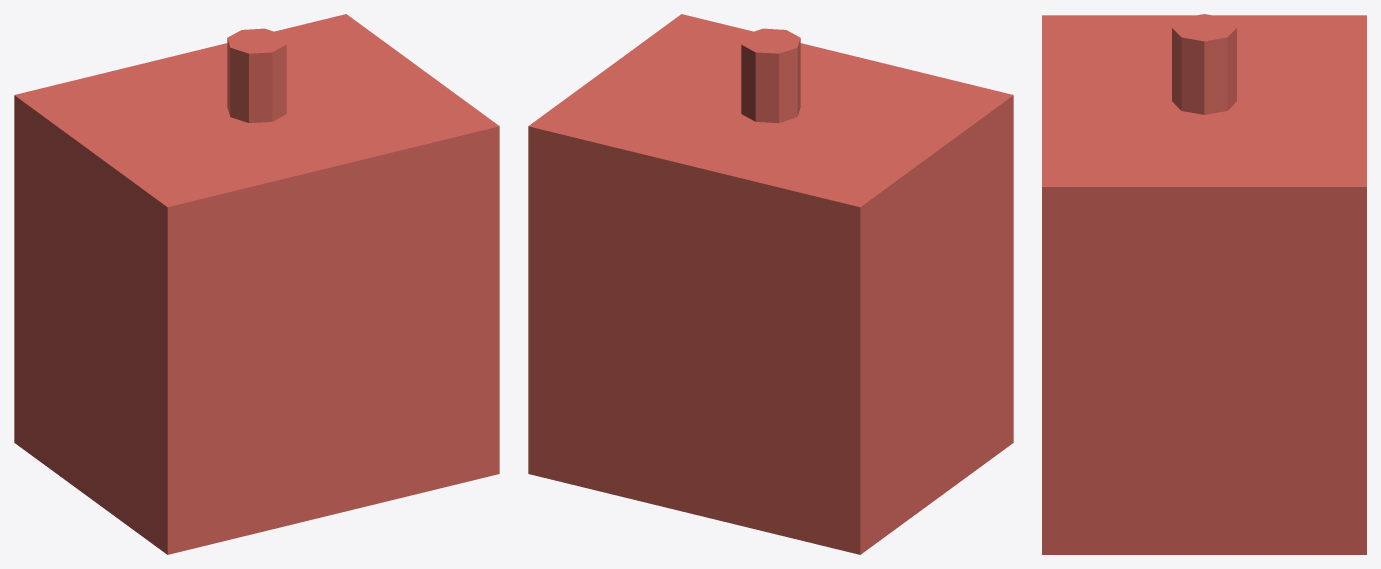
The model's file is snow_blower.glb.
3 views of the same model, side by side, from view 1: azimuth 30°, elevation 25°; view 2: azimuth 150°, elevation 25°; view 3: azimuth 270°, elevation 25° (orthographic). The views are drawn at different scales.
Parts seen in each view (by area): view 1: body, chute; view 2: body, chute; view 3: body, chute.
Part boxes in pixels (x1,y1,x2,y2): body: (14, 14, 499, 554); chute: (227, 28, 286, 123); body: (528, 14, 1013, 554); chute: (741, 28, 800, 123); body: (1042, 15, 1366, 554); chute: (1172, 14, 1236, 114).
Size of the model in its own units: 1 by 1.2 by 0.7998.
